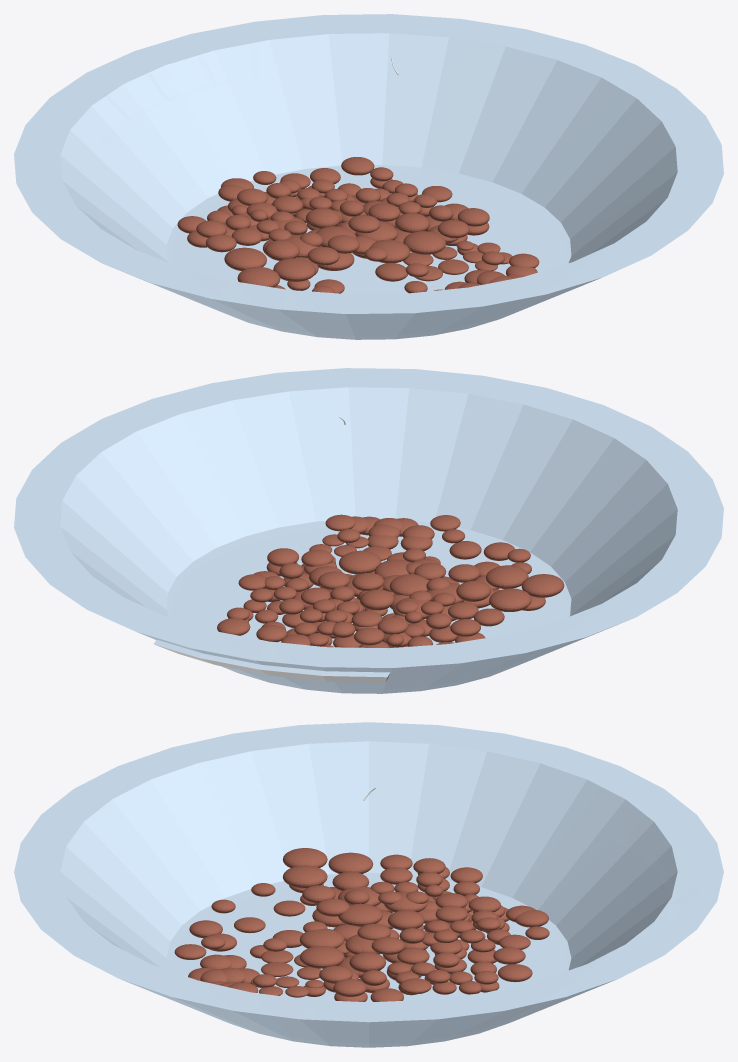
The model's file is lentejas.glb.
The picture shows the model from 3 angles, top to bottom: view 1: azimuth 30°, elevation 25°; view 2: azimuth 150°, elevation 25°; view 3: azimuth 270°, elevation 25°; orthographic projection.
Visible parts, largest first — view 1: Cilindro, Esfera.041, Esfera.098, Esfera.099, Esfera.097, Esfera.042, Esfera.087, Esfera.100, Esfera.039; view 2: Cilindro, Esfera.099, Esfera.097, Esfera.098, Esfera.041, Esfera.089, Esfera.087, Esfera.100; view 3: Cilindro, Esfera.098, Esfera.041, Esfera.099, Esfera.089, Esfera.097, Esfera.042, Esfera.039, Esfera.087, Esfera.100.
Boxes of the visible parts, x1=… form: Cilindro: x1=14, y1=14, x2=723, y2=339; Esfera.041: x1=403, y1=231, x2=445, y2=254; Esfera.098: x1=273, y1=258, x2=315, y2=281; Esfera.099: x1=224, y1=247, x2=266, y2=270; Esfera.097: x1=237, y1=267, x2=280, y2=287; Esfera.042: x1=369, y1=240, x2=410, y2=263; Esfera.087: x1=306, y1=208, x2=340, y2=228; Esfera.100: x1=265, y1=240, x2=299, y2=260; Esfera.039: x1=395, y1=213, x2=429, y2=232; Cilindro: x1=14, y1=368, x2=723, y2=693; Esfera.099: x1=489, y1=588, x2=531, y2=611; Esfera.097: x1=521, y1=574, x2=564, y2=597; Esfera.098: x1=486, y1=565, x2=528, y2=588; Esfera.041: x1=339, y1=550, x2=381, y2=574; Esfera.089: x1=389, y1=574, x2=429, y2=595; Esfera.087: x1=360, y1=589, x2=394, y2=610; Esfera.100: x1=456, y1=580, x2=490, y2=601; Cilindro: x1=14, y1=722, x2=723, y2=1047; Esfera.098: x1=283, y1=865, x2=327, y2=888; Esfera.041: x1=299, y1=946, x2=344, y2=968; Esfera.099: x1=328, y1=852, x2=373, y2=873; Esfera.089: x1=338, y1=903, x2=382, y2=926; Esfera.097: x1=283, y1=848, x2=327, y2=867; Esfera.042: x1=299, y1=928, x2=344, y2=948; Esfera.039: x1=349, y1=952, x2=386, y2=972; Esfera.087: x1=387, y1=910, x2=424, y2=930; Esfera.100: x1=332, y1=871, x2=369, y2=890.
Bounding box in the file's own units: 4.14 × 1.22 × 4.14.
